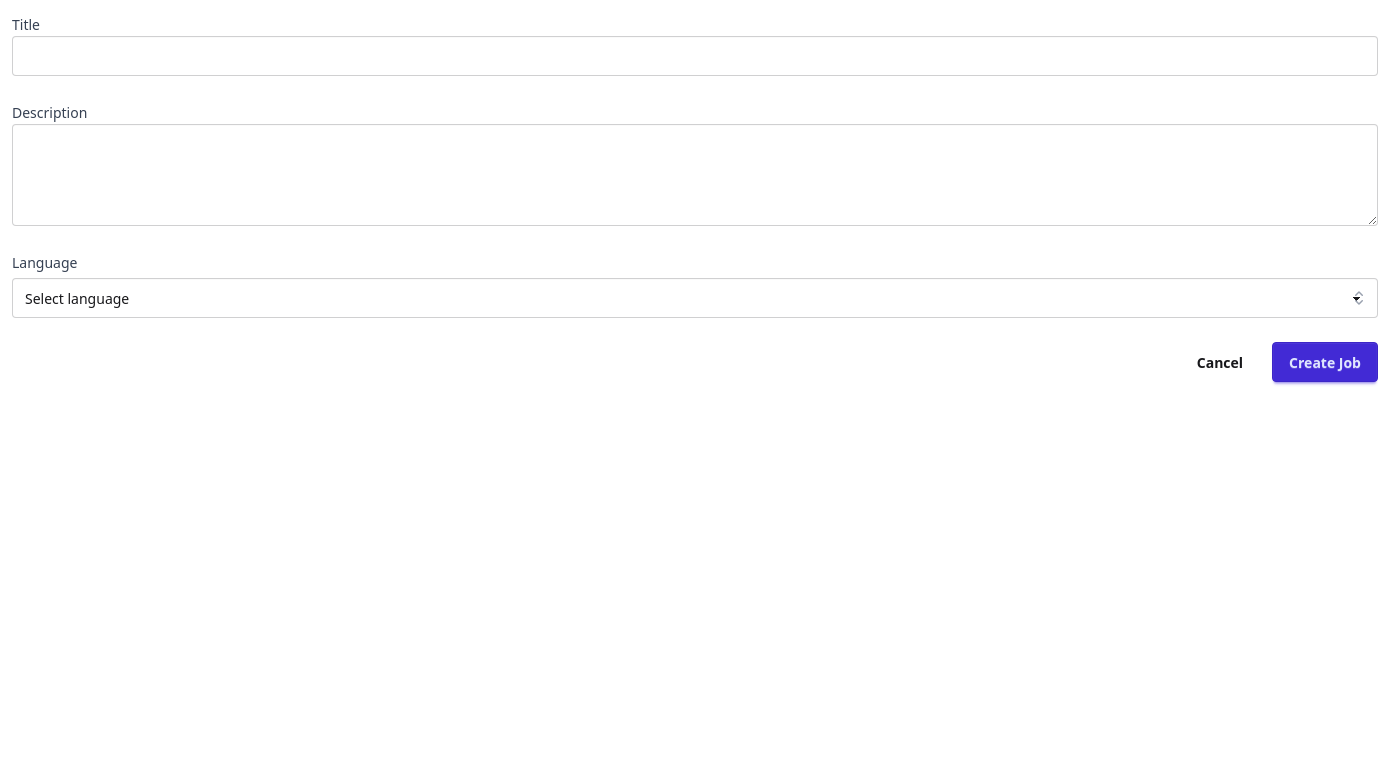
Scenario: JobForm › Form Validation › validates required fields
The image size is (1390, 780).
# Clear default language selection
Click the button "Select language" at {"x": 77, "y": 298}, box [12,278,1378,318]
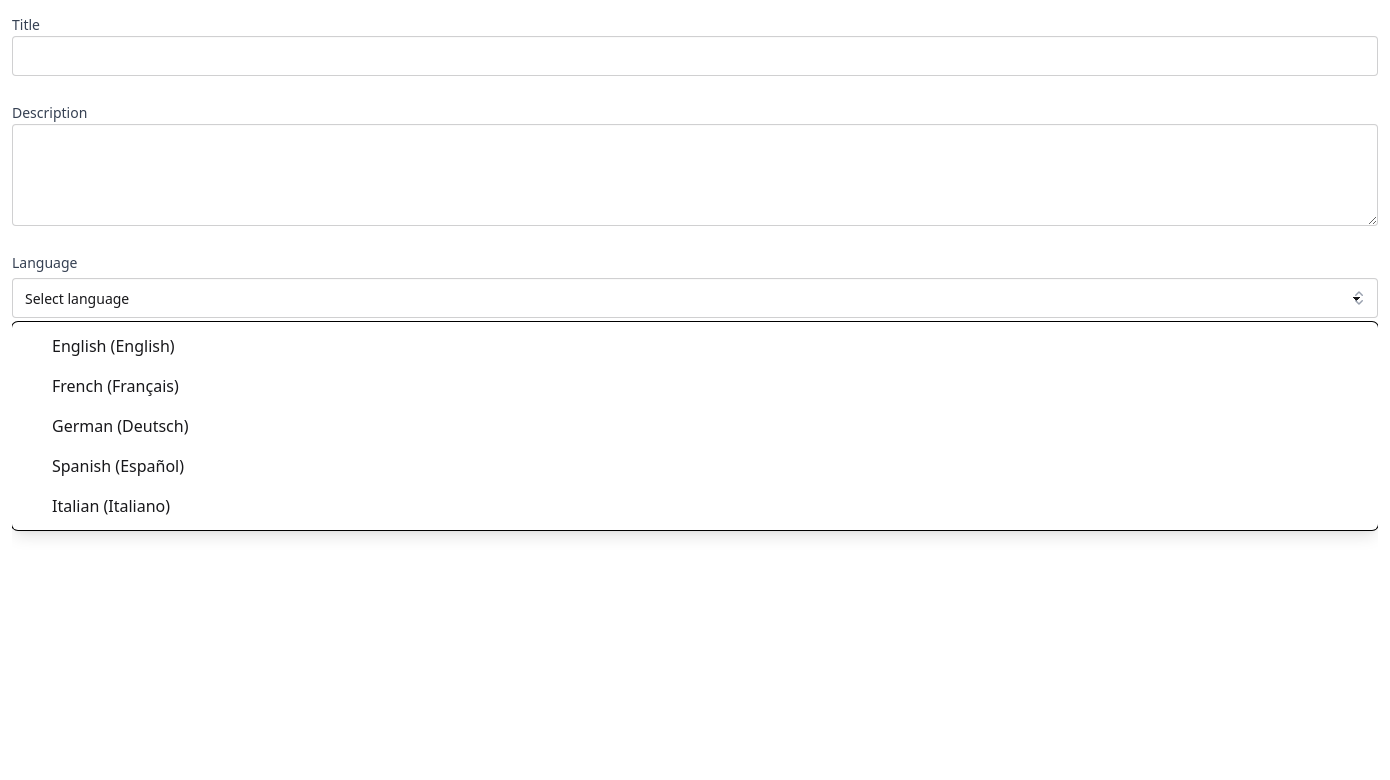
Click the button "Select language" at {"x": 77, "y": 298}, box [12,278,1378,318]
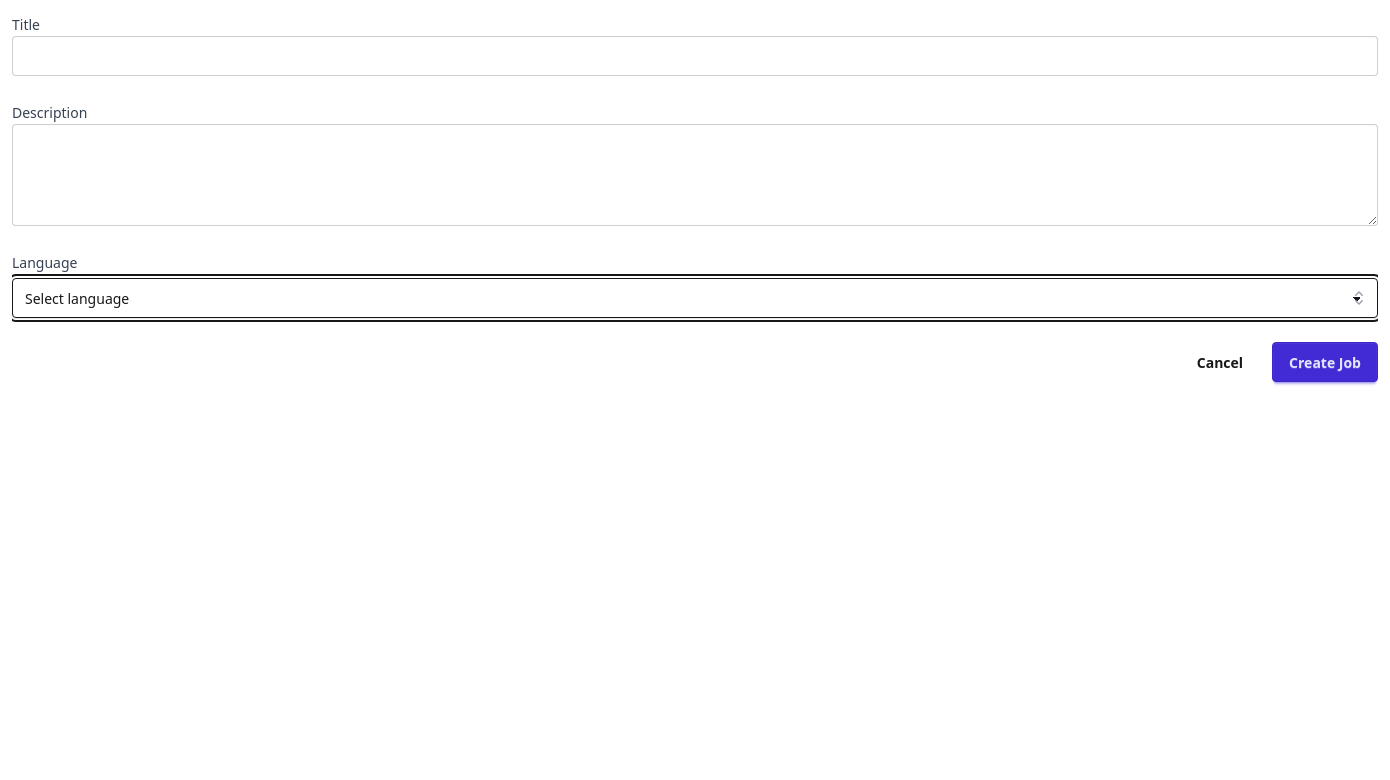
Click the button "Create Job" at {"x": 1325, "y": 362}, box [1272,342,1378,382]
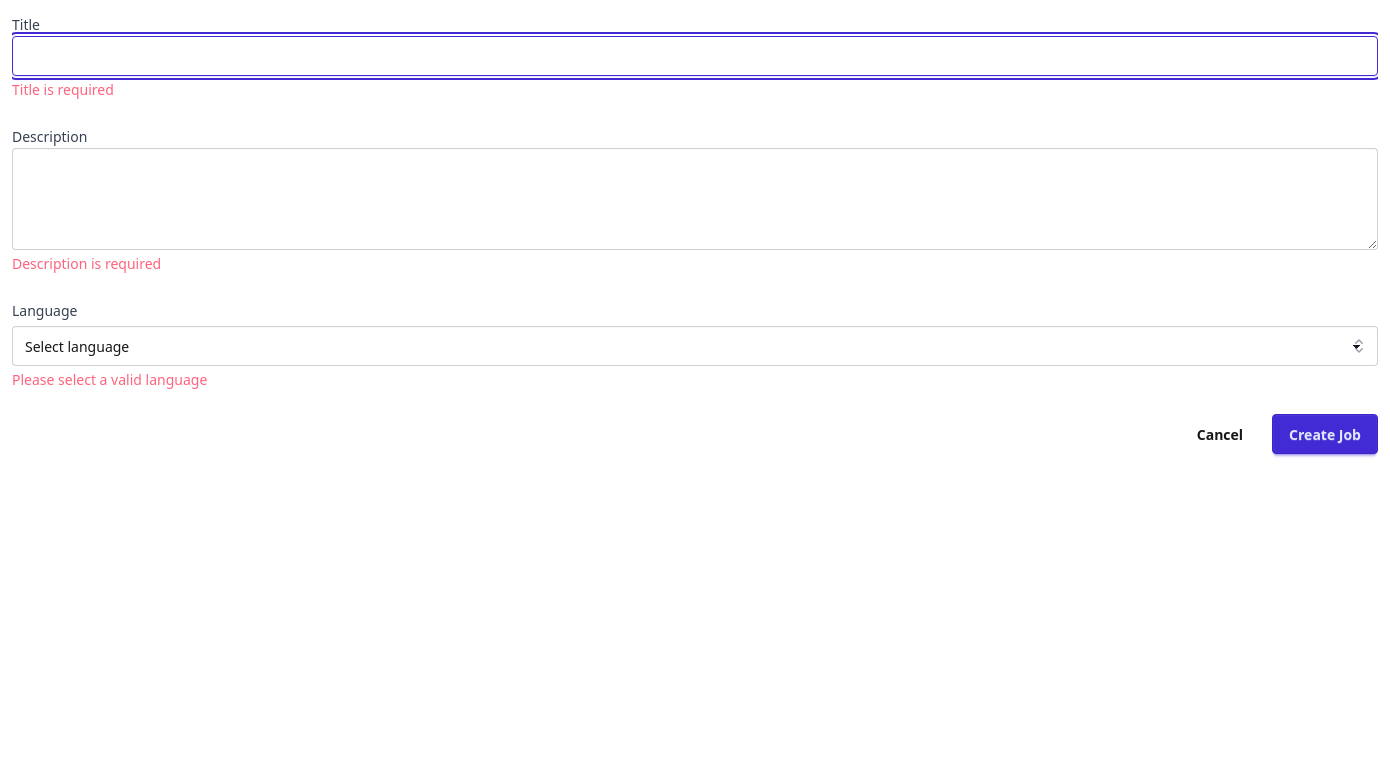
Check: the text "Title is required" is shown, box [12,80,114,99]
Check: the text "Description is required" is shown, box [12,254,161,273]
Check: the text "Please select a valid language" is shown, box [12,370,207,389]
